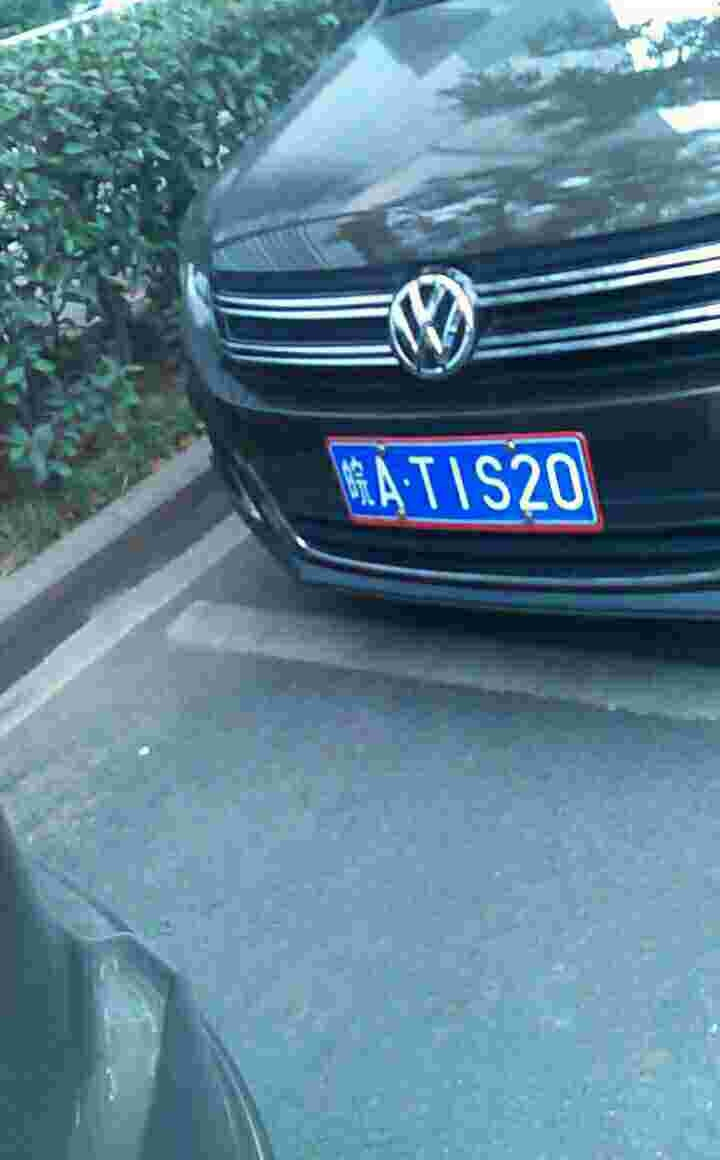plate: (320, 437, 603, 527)
